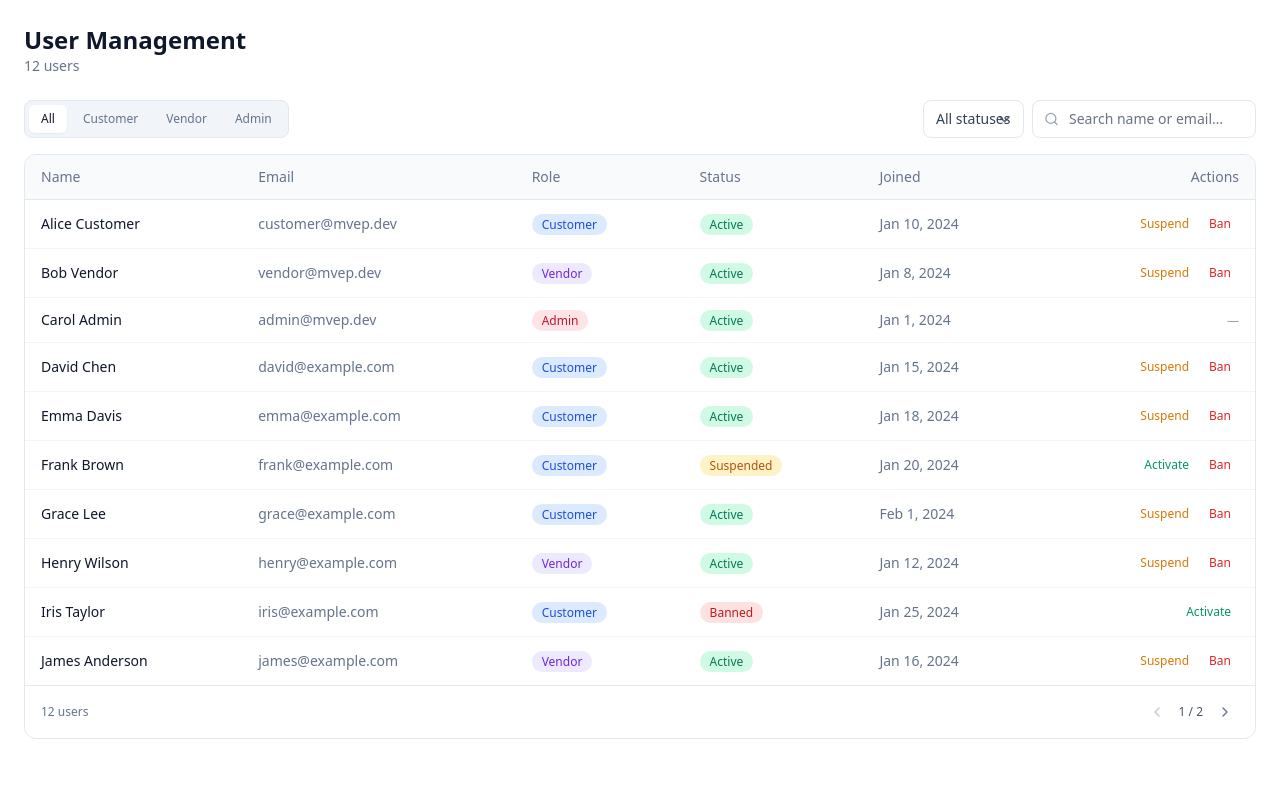
Test: AdminUsersPage › filters to vendor users when the Vendor tab is clicked
Expected: the text "Alice Customer" is shown, [25,200,242,248]
Wait for initial load
What coordinates should you click on to do the following:
click the button "vendor"
I would click on:
 (187, 119)
Its box is [154,105,219,133].
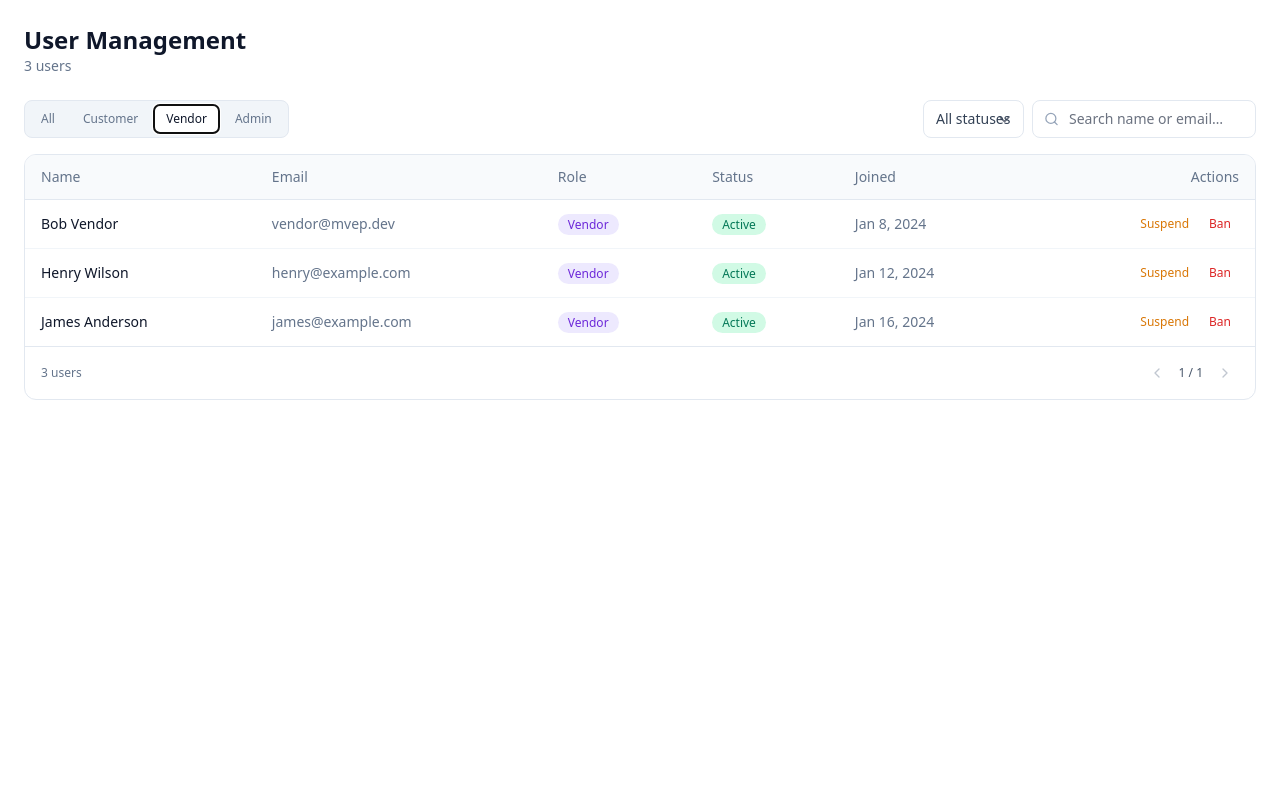
Expected: the text "Bob Vendor" is shown, [25,200,256,248]
Expected: the text "Alice Customer" is gone
